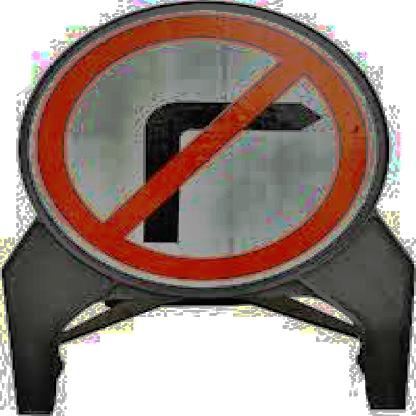No right turn: (28, 11, 390, 289)
